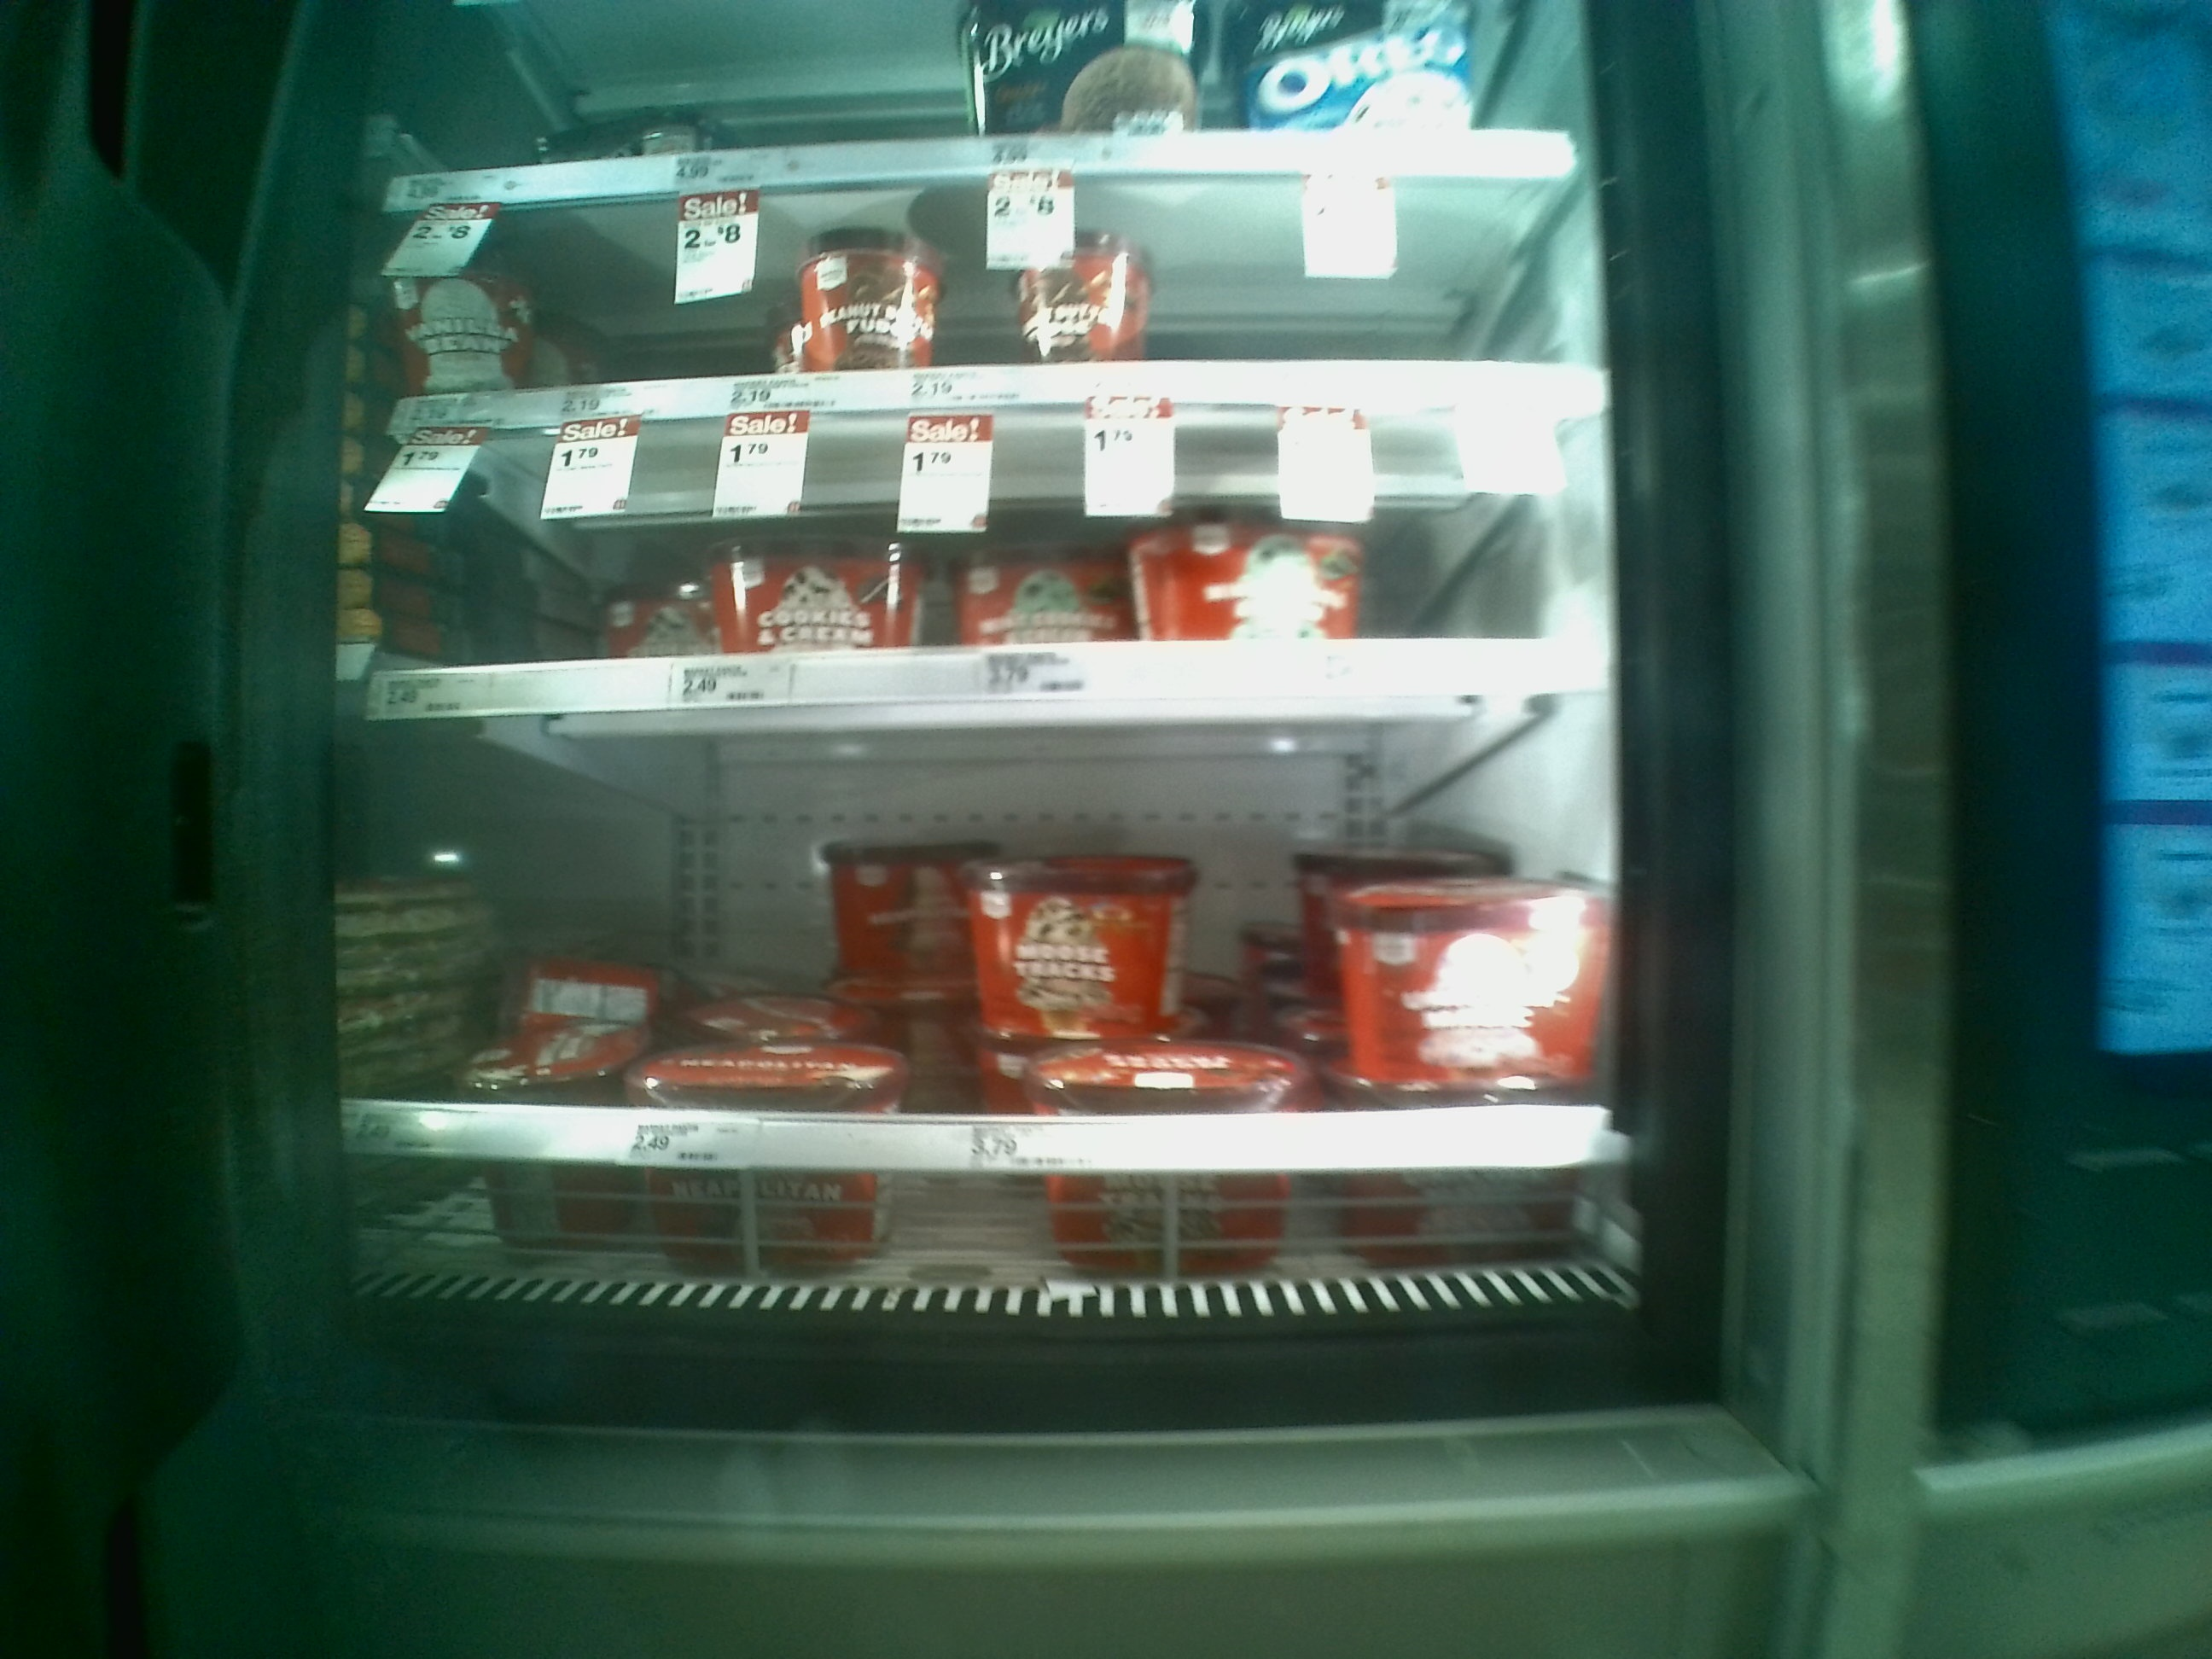ice-cream-shelf: (387, 718, 1630, 1229), (387, 397, 1618, 718), (401, 190, 1583, 401)
